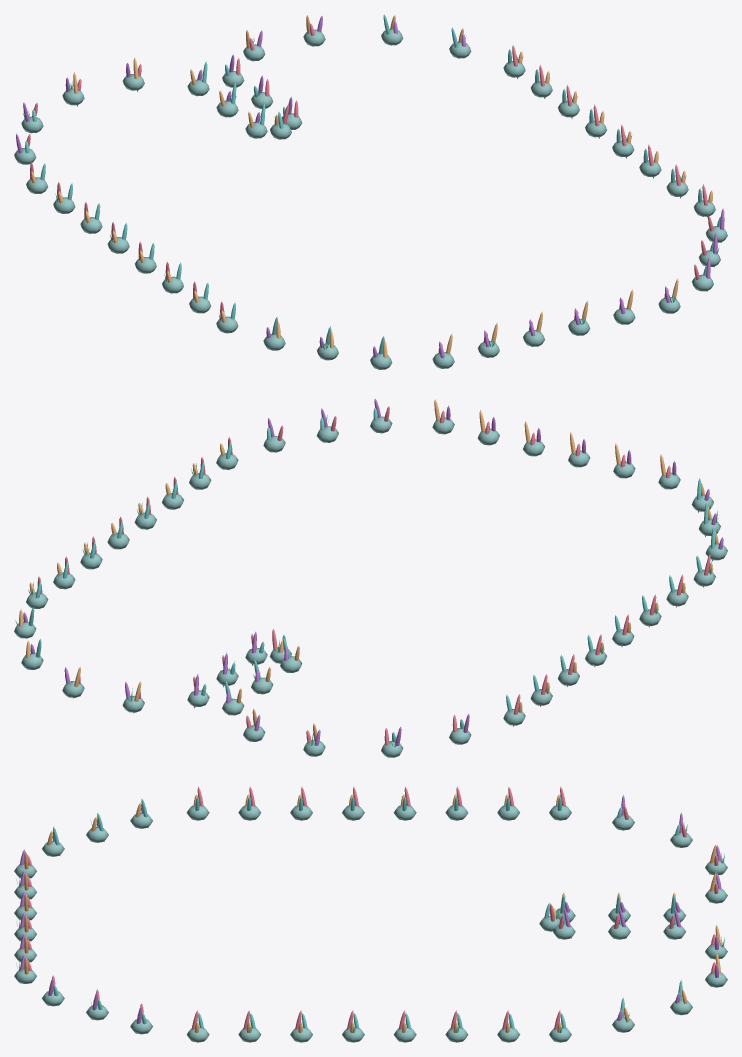
File: reef-17-D5WkHld8.glb
3 renders of one model, top to bottom at view 1: azimuth 30°, elevation 25°; view 2: azimuth 150°, elevation 25°; view 3: azimuth 270°, elevation 25°, orthographic. The views are drawn at different scales.
Visible parts, largest first — view 1: ReefRock, Coral2, Coral3, Coral0, Coral1; view 2: ReefRock, Coral3, Coral2, Coral0, Coral1; view 3: ReefRock, Coral0, Coral3, Coral2, Coral1.
Part boxes in pixels (box(x1,y1,x2,y2)): ReefRock: box(14, 29, 727, 369); Coral2: box(31, 15, 712, 358); Coral3: box(25, 14, 720, 353); Coral0: box(26, 23, 713, 353); Coral1: box(16, 15, 724, 358); ReefRock: box(14, 416, 727, 757); Coral3: box(28, 407, 715, 742); Coral2: box(19, 399, 718, 740); Coral0: box(37, 406, 710, 745); Coral1: box(23, 398, 723, 745); ReefRock: box(14, 805, 727, 1042); Coral0: box(27, 786, 718, 1040); Coral3: box(53, 796, 682, 1028); Coral2: box(24, 794, 720, 1032); Coral1: box(20, 795, 721, 1033).
Size of the model in its own units: 33 by 2.06 by 43.1.
